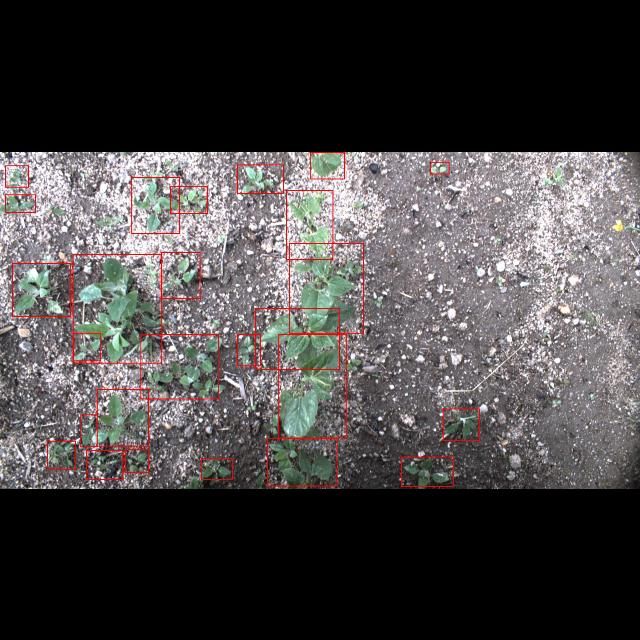crop: (278, 334, 346, 438), (289, 243, 363, 333), (255, 307, 339, 368), (310, 152, 344, 178)
weed: (72, 254, 162, 362), (140, 334, 218, 398), (267, 438, 337, 486), (287, 189, 333, 259), (12, 262, 70, 316), (97, 388, 149, 446), (132, 176, 180, 232), (160, 251, 200, 297), (401, 456, 453, 486), (237, 164, 283, 192), (443, 408, 479, 440), (86, 450, 122, 480), (170, 185, 208, 212), (47, 440, 75, 470), (74, 332, 100, 360), (238, 334, 260, 366), (202, 458, 232, 479), (6, 194, 36, 212), (81, 414, 97, 446), (125, 450, 148, 472), (6, 164, 28, 186), (430, 161, 450, 173)
